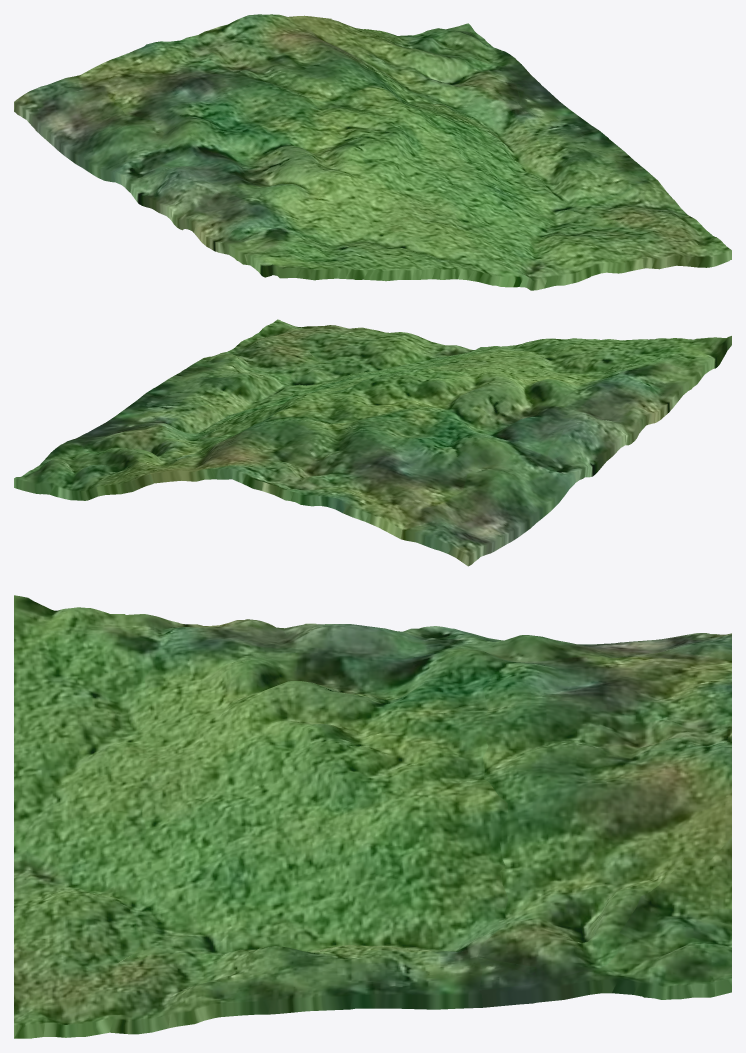
File: z20-167558-405173-h0-yup-uvflip-v3-world.glb
3 renders of one model, top to bottom at view 1: azimuth 30°, elevation 25°; view 2: azimuth 150°, elevation 25°; view 3: azimuth 270°, elevation 25°, orthographic. The views are drawn at different scales.
Bounding box in the file's own units: 30.16 × 6.84 × 30.32.
Materials: 1 (1 with a texture image).
